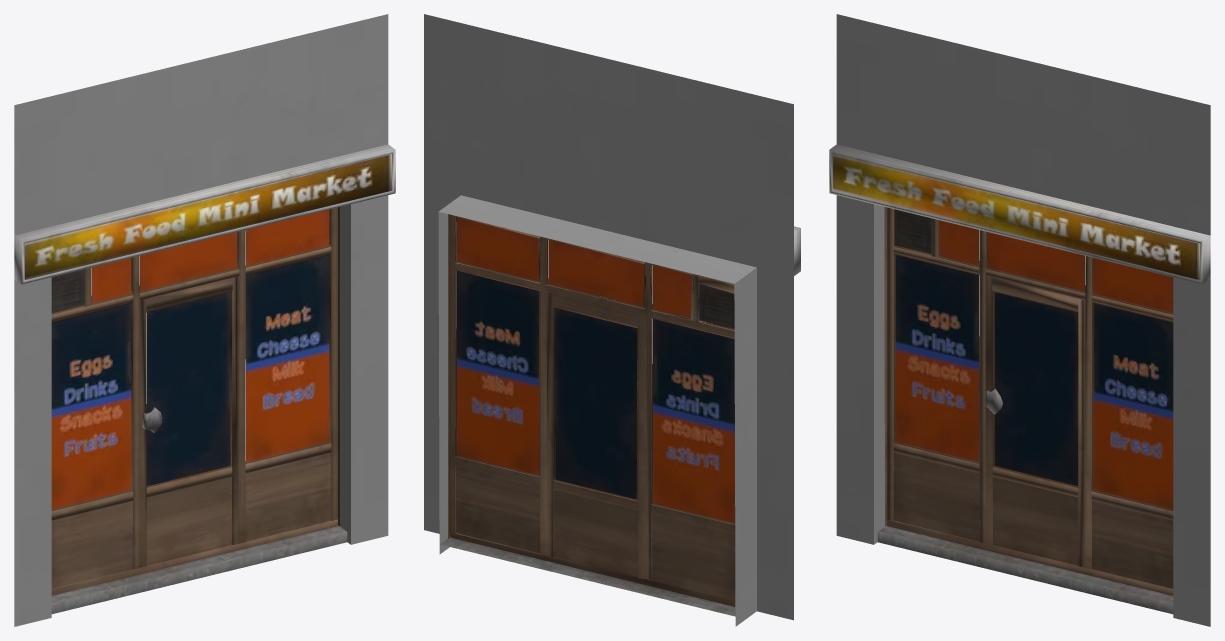
The model's file is sm_slum_storefront02.glb.
The picture shows the model from 3 angles, left to right: view 1: azimuth 30°, elevation 25°; view 2: azimuth 150°, elevation 25°; view 3: azimuth 330°, elevation 25°; orthographic projection.
Visible parts, largest first — view 1: sm_slum_storefront02_00; view 2: sm_slum_storefront02_00; view 3: sm_slum_storefront02_00.
Part boxes in pixels (left/top/right/bottom): sm_slum_storefront02_00: left=14, top=14, right=395, bottom=626; sm_slum_storefront02_00: left=424, top=14, right=800, bottom=626; sm_slum_storefront02_00: left=829, top=14, right=1210, bottom=626.
Bounding box in the file's own units: 3 × 4 × 0.4155.
2 materials, 2 textured.
